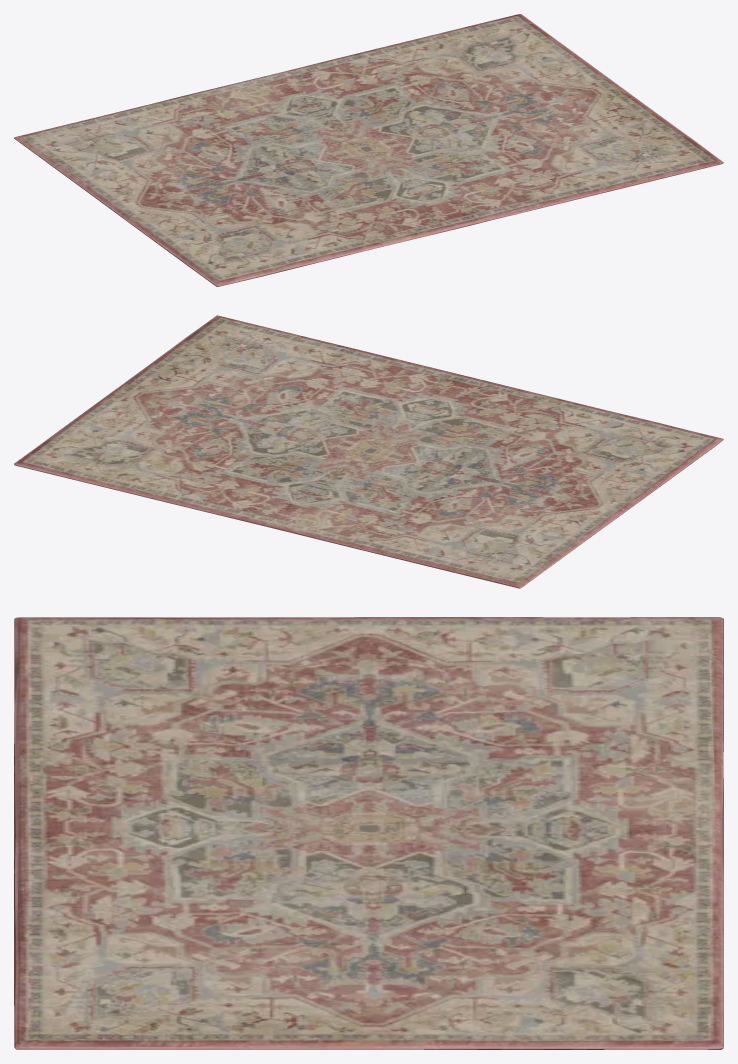
The picture shows the model from 3 angles, top to bottom: view 1: azimuth 30°, elevation 25°; view 2: azimuth 150°, elevation 25°; view 3: azimuth 270°, elevation 25°; orthographic projection. The views are drawn at different scales.
Visible parts, largest first — view 1: ASY_ART_20595698_S01_NV01; view 2: ASY_ART_20595698_S01_NV01; view 3: ASY_ART_20595698_S01_NV01.
Part boxes in pixels (box(x1,y1,x2,y2)): ASY_ART_20595698_S01_NV01: box(14, 14, 723, 286); ASY_ART_20595698_S01_NV01: box(14, 315, 723, 588); ASY_ART_20595698_S01_NV01: box(14, 617, 723, 1049).
Bounding box in the file's own units: 2.3 × 0.0112 × 1.6.
Materials: 1 (1 with a texture image).
